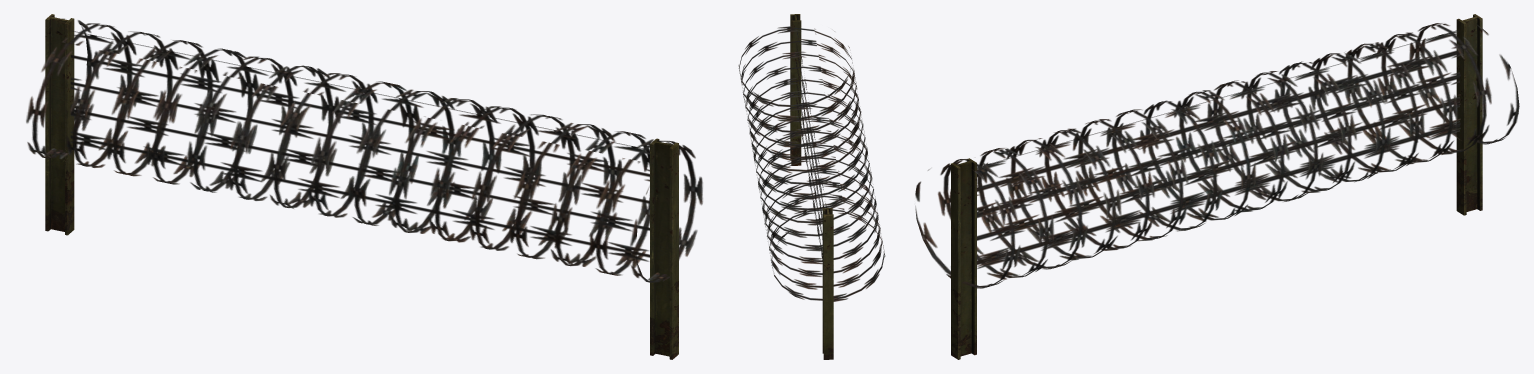
The model's file is object_92_lev2.glb.
3 views of the same model, side by side, from view 1: azimuth 30°, elevation 25°; view 2: azimuth 150°, elevation 25°; view 3: azimuth 270°, elevation 25° (orthographic). The views are drawn at different scales.
Visible parts, largest first — view 1: object_92_lev2; view 2: object_92_lev2; view 3: object_92_lev2.
Part boxes in pixels (x1=…): object_92_lev2: x1=26, y1=14, x2=702, y2=359; object_92_lev2: x1=738, y1=14, x2=885, y2=359; object_92_lev2: x1=915, y1=14, x2=1519, y2=359.
Bounding box in the file's own units: 5.47 × 2.42 × 6.93.
Materials: 1 (1 with a texture image).
